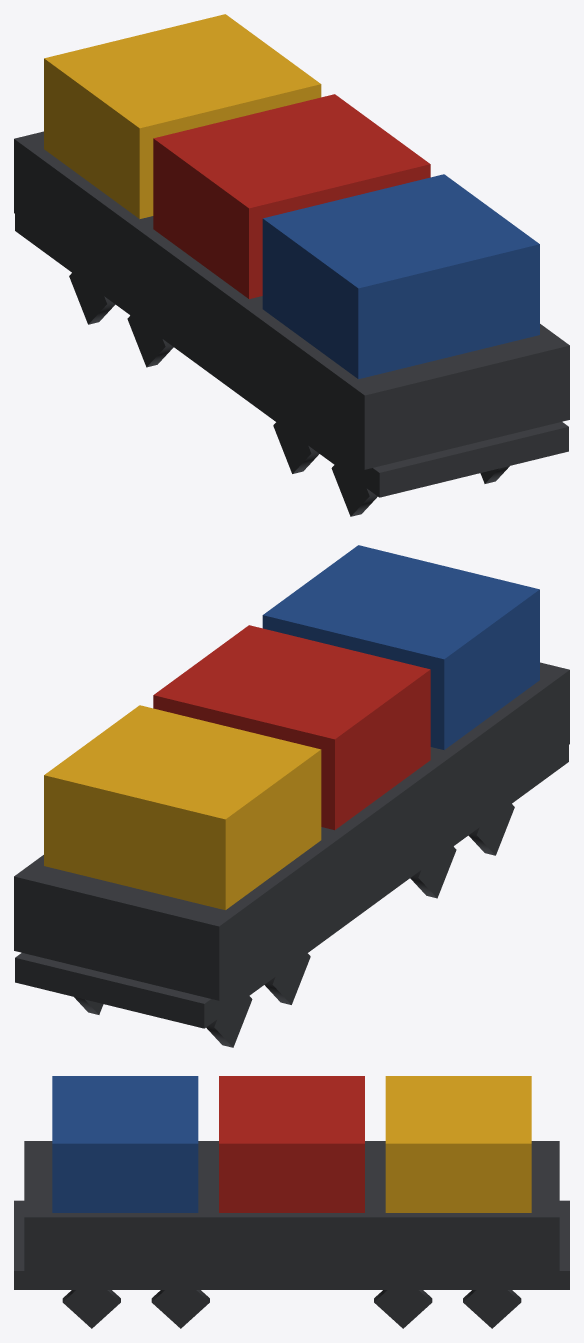
The model's file is veh_ground_rail_wagon_a08_lod2.glb.
3 views of the same model, one above another, from view 1: azimuth 30°, elevation 25°; view 2: azimuth 150°, elevation 25°; view 3: azimuth 270°, elevation 25° (orthographic). The views are drawn at different scales.
Visible parts, largest first — view 1: body, wheel_2, wheel_0, wheel_4, wheel_6; view 2: body, wheel_4, wheel_6, wheel_0, wheel_2; view 3: body, wheel_1, wheel_3, wheel_5, wheel_7.
Boxes of the visible parts, x1,y1,x2,y2 form: body: (14, 14, 569, 497); wheel_2: (127, 315, 173, 367); wheel_0: (69, 273, 115, 324); wheel_4: (273, 422, 319, 473); wheel_6: (331, 465, 377, 516); body: (14, 545, 569, 1028); wheel_4: (410, 846, 456, 898); wheel_6: (468, 804, 514, 855); wheel_0: (206, 996, 252, 1047); wheel_2: (264, 953, 310, 1004); body: (14, 1076, 569, 1289); wheel_1: (463, 1290, 521, 1328); wheel_3: (374, 1290, 432, 1328); wheel_5: (151, 1290, 209, 1328); wheel_7: (62, 1290, 120, 1328).
Size of the model in its own units: 2.6 by 3.05 by 8.
